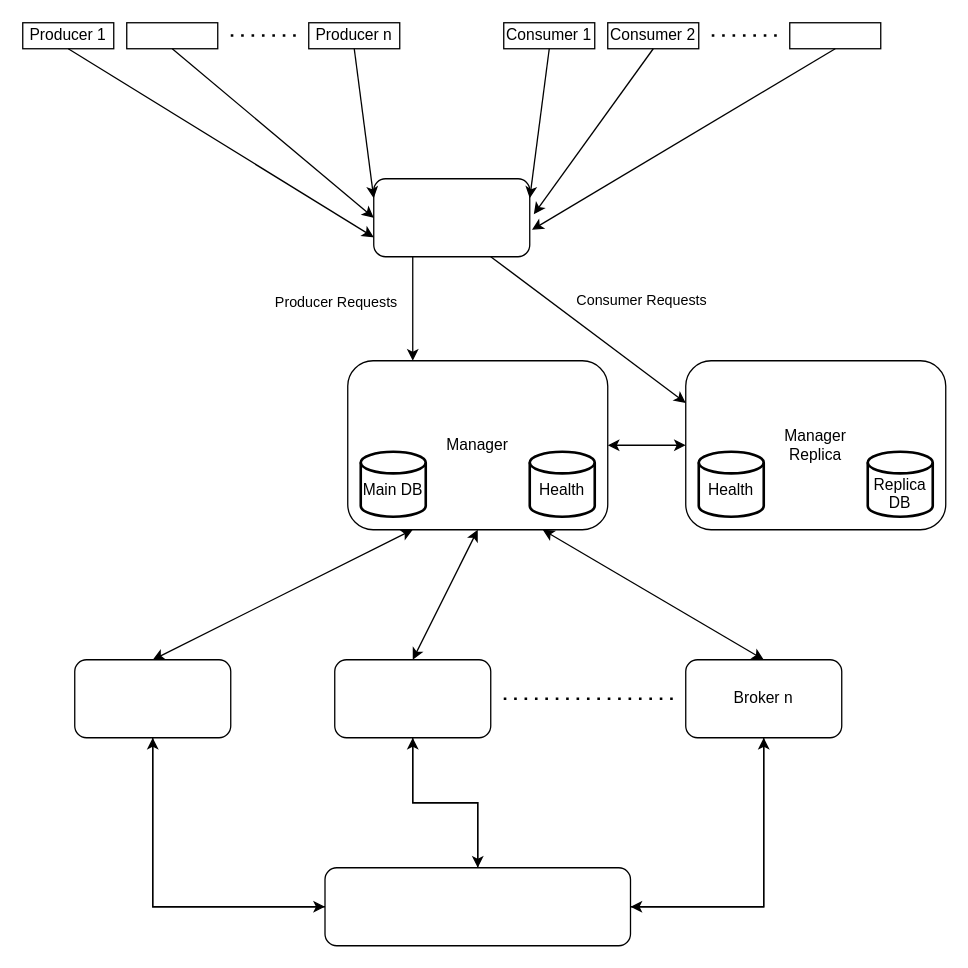
This 968x968 diagram has some shape labels left out. Here are the shapes that lost their labels. From the top down, the centre of each, then its label:
At pixel 171 35: "Producer 2".
At pixel 834 35: "Consumer n".
At pixel 451 217: "HTTP Server".
At pixel 152 698: "Broker 1".
At pixel 412 698: "Broker 2".
At pixel 477 906: "Peer to Peer Network (RAFT)".
